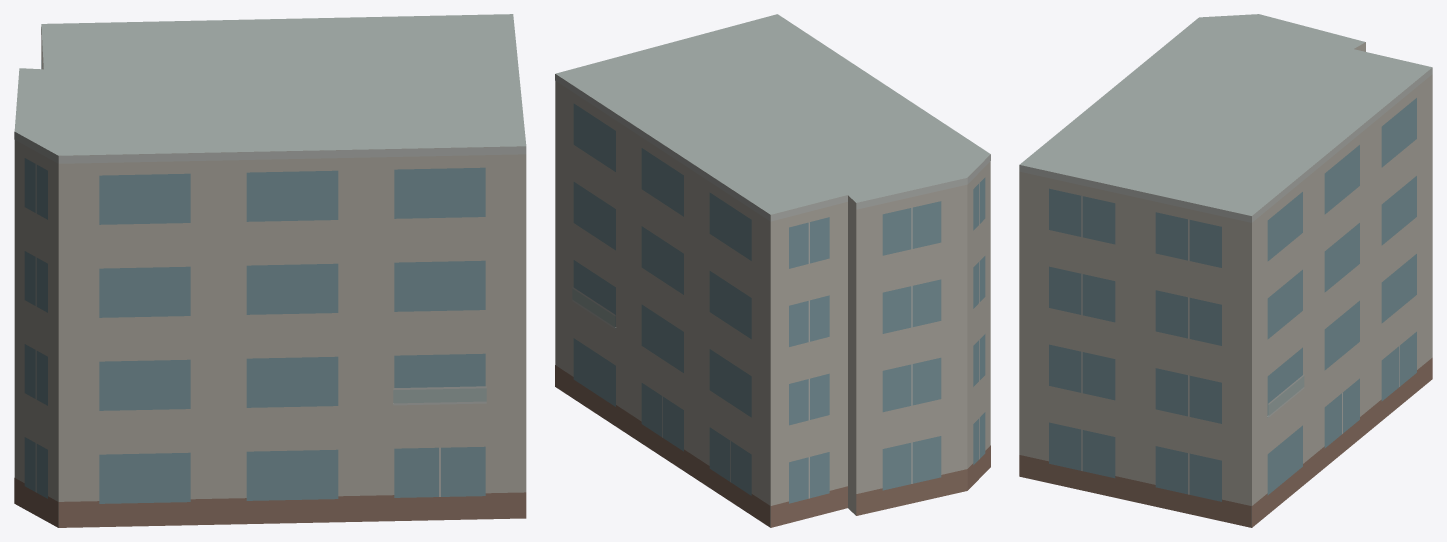
The model's file is survey-upis-32728713.glb.
3 views of the same model, side by side, from view 1: azimuth 30°, elevation 25°; view 2: azimuth 150°, elevation 25°; view 3: azimuth 270°, elevation 25° (orthographic). The views are drawn at different scales.
Visible parts, largest first — view 1: survey-upis-32728713.tmp; view 2: survey-upis-32728713.tmp; view 3: survey-upis-32728713.tmp.
Boxes of the visible parts, <box> form: survey-upis-32728713.tmp: <box>14,14,526,527</box>; survey-upis-32728713.tmp: <box>555,14,990,527</box>; survey-upis-32728713.tmp: <box>1019,14,1432,527</box>.
Size of the model in its own units: 15.65 by 11.25 by 13.53.
